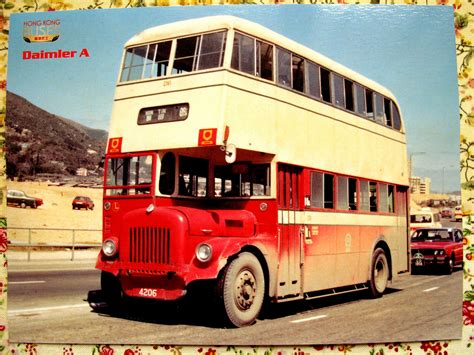bus: (106, 24, 410, 315)
car: (411, 230, 462, 271)
